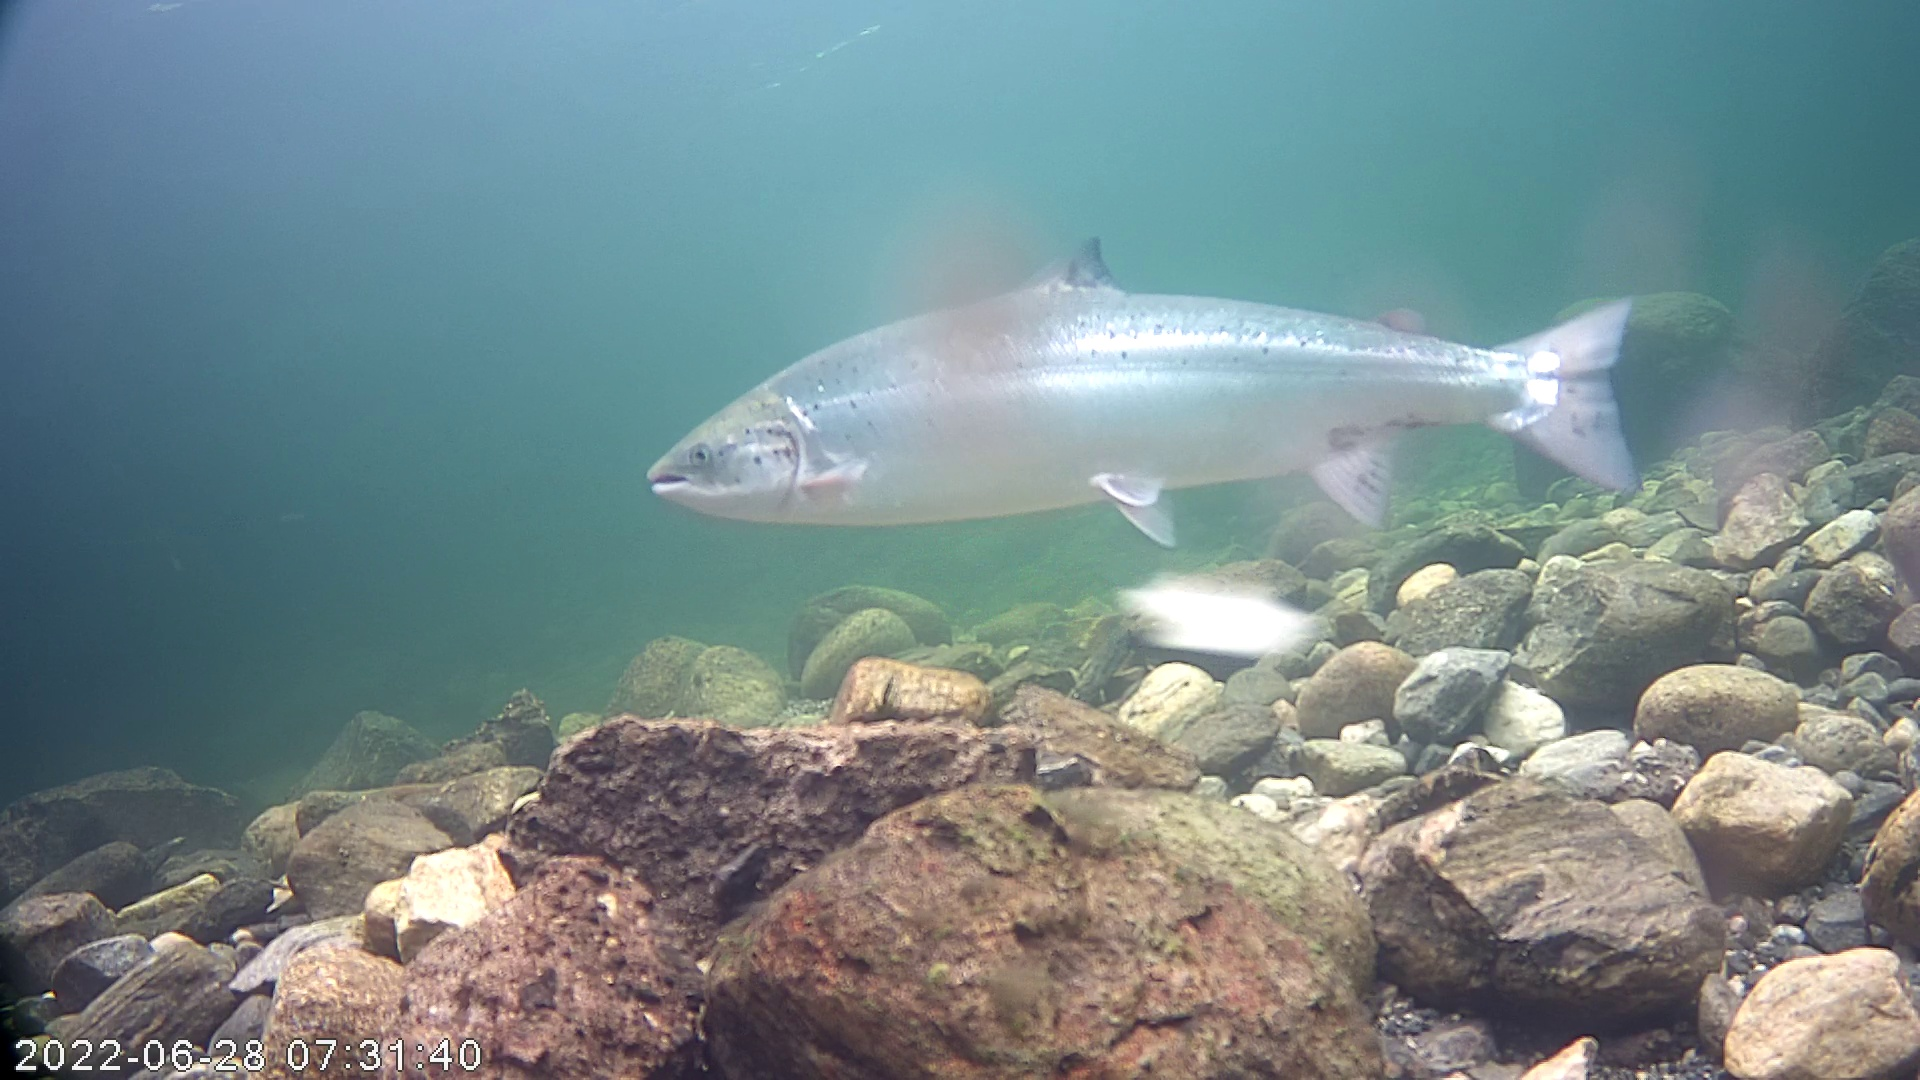salmon: (636, 123, 1680, 612)
